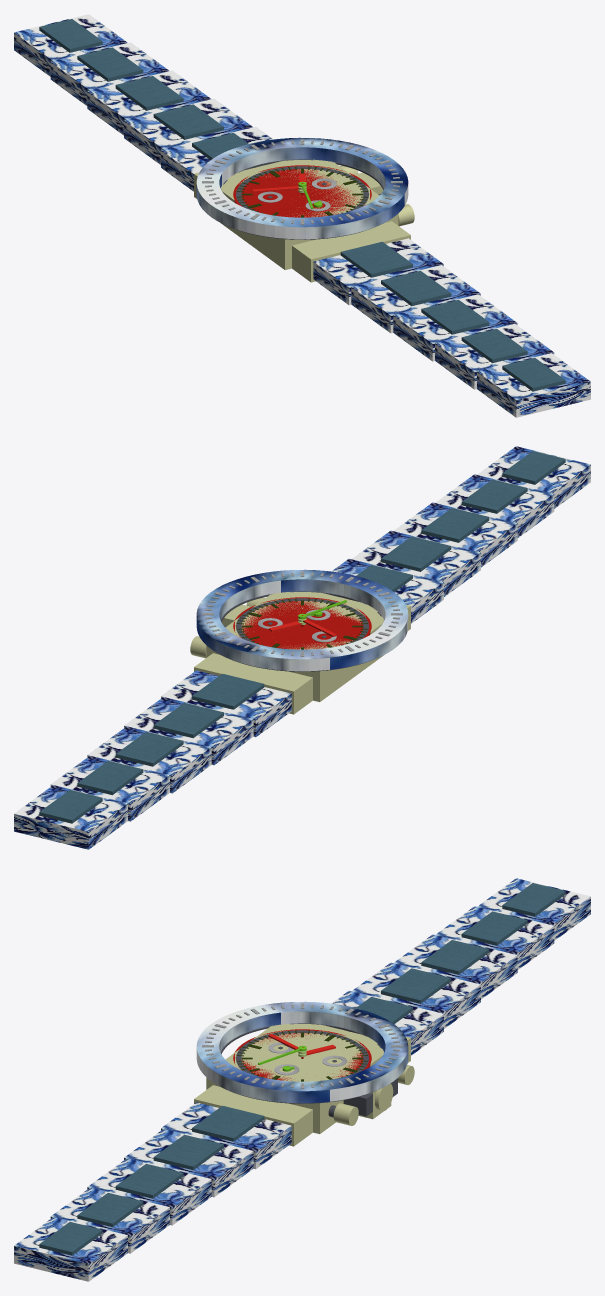
Rendered from watch__1814.glb.
3 views of the same model, one above another, from view 1: azimuth 30°, elevation 25°; view 2: azimuth 150°, elevation 25°; view 3: azimuth 330°, elevation 25° (orthographic).
Parts seen in each view (by area): view 1: bezel::bezel_ring, case::case_body, bottom_strap_4::strap_body, case::dial_disc, bottom_strap_1::strap_body, top_strap_1::strap_body, bottom_strap_2::strap_body, bottom_strap_0::strap_body, top_strap_2::strap_body, bottom_strap_3::strap_body, top_strap_3::strap_body, top_strap_4::strap_body (+13 smaller); view 2: bezel::bezel_ring, case::dial_disc, top_strap_4::strap_body, case::case_body, top_strap_1::strap_body, bottom_strap_1::strap_body, top_strap_2::strap_body, top_strap_0::strap_body, bottom_strap_2::strap_body, top_strap_3::strap_body, bottom_strap_3::strap_body, bottom_strap_4::strap_body (+13 smaller); view 3: bezel::bezel_ring, case::case_body, bottom_strap_4::strap_body, bottom_strap_1::strap_body, top_strap_1::strap_body, bottom_strap_2::strap_body, bottom_strap_0::strap_body, top_strap_2::strap_body, bottom_strap_3::strap_body, top_strap_3::strap_body, top_strap_4::strap_body, case::bottom_lug_bridge (+13 smaller).
Boxes of the visible parts, left/top/right/bottom form: bezel::bezel_ring: left=196, top=137, right=408, bottom=239; case::case_body: left=220, top=159, right=398, bottom=269; bottom_strap_4::strap_body: left=477, top=353, right=590, bottom=417; case::dial_disc: left=233, top=165, right=371, bottom=217; bottom_strap_1::strap_body: left=351, top=265, right=480, bottom=333; top_strap_1::strap_body: left=124, top=98, right=252, bottom=164; bottom_strap_2::strap_body: left=393, top=294, right=517, bottom=361; bottom_strap_0::strap_body: left=313, top=238, right=443, bottom=305; top_strap_2::strap_body: left=87, top=70, right=211, bottom=135; bottom_strap_3::strap_body: left=435, top=323, right=554, bottom=389; top_strap_3::strap_body: left=50, top=42, right=169, bottom=105; top_strap_4::strap_body: left=14, top=14, right=127, bottom=76; bezel::bezel_ring: left=196, top=569, right=408, bottom=671; case::dial_disc: left=233, top=597, right=371, bottom=649; top_strap_4::strap_body: left=14, top=785, right=127, bottom=849; case::case_body: left=206, top=592, right=384, bottom=701; top_strap_1::strap_body: left=124, top=697, right=253, bottom=765; bottom_strap_1::strap_body: left=352, top=530, right=480, bottom=596; top_strap_2::strap_body: left=87, top=726, right=211, bottom=793; top_strap_0::strap_body: left=161, top=670, right=291, bottom=737; bottom_strap_2::strap_body: left=393, top=502, right=517, bottom=567; top_strap_3::strap_body: left=50, top=755, right=169, bottom=821; bottom_strap_3::strap_body: left=435, top=474, right=554, bottom=537; bottom_strap_4::strap_body: left=477, top=446, right=590, bottom=508; bezel::bezel_ring: left=196, top=1001, right=408, bottom=1103; case::case_body: left=206, top=1024, right=383, bottom=1133; bottom_strap_4::strap_body: left=14, top=1217, right=127, bottom=1281; bottom_strap_1::strap_body: left=124, top=1129, right=253, bottom=1197; top_strap_1::strap_body: left=352, top=962, right=480, bottom=1028; bottom_strap_2::strap_body: left=87, top=1158, right=211, bottom=1225; bottom_strap_0::strap_body: left=161, top=1102, right=291, bottom=1169; top_strap_2::strap_body: left=393, top=934, right=517, bottom=999; bottom_strap_3::strap_body: left=50, top=1187, right=169, bottom=1253; top_strap_3::strap_body: left=435, top=906, right=554, bottom=969; top_strap_4::strap_body: left=477, top=878, right=590, bottom=940; case::bottom_lug_bridge: left=194, top=1085, right=312, bottom=1146.
Bounding box in the file's own units: 0.0539 × 0.0133 × 0.2558.
10 materials, 9 textured.
